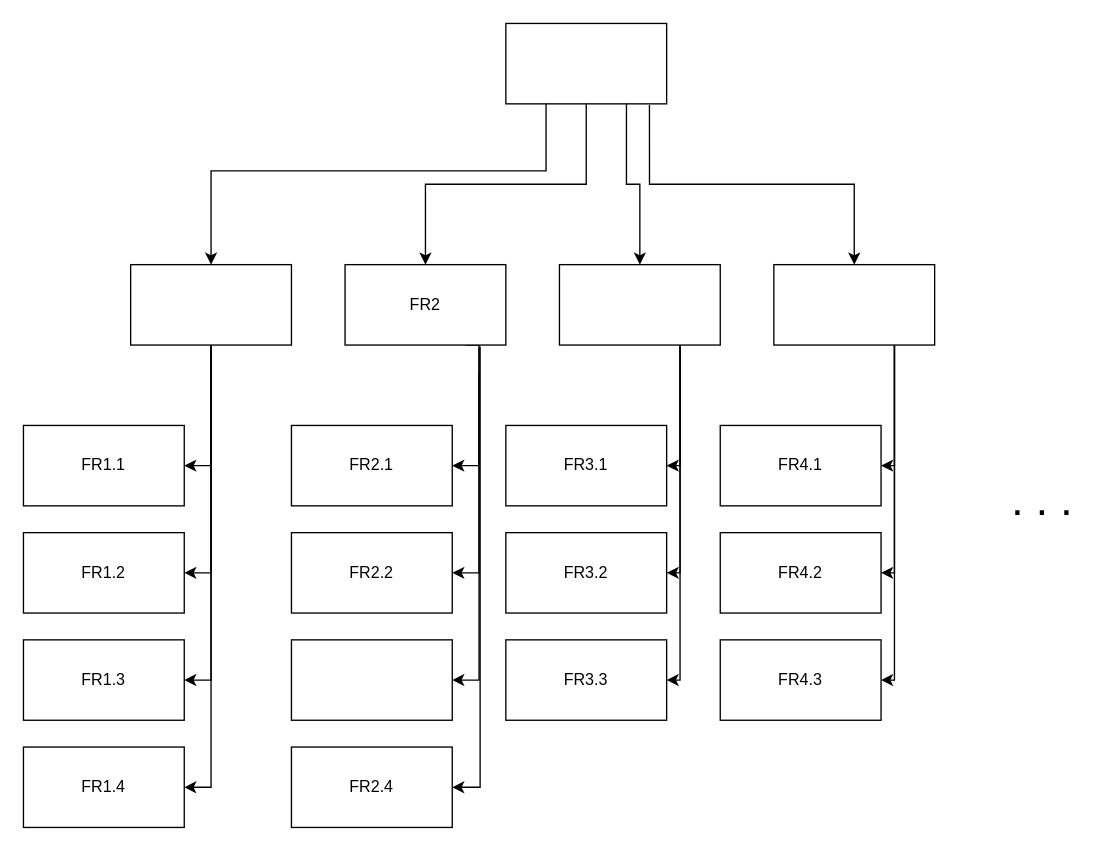
The diagram is 1106 pixels wide and 851 high, and some of its shapes have lost their labels. Each missing label, with the centre of its shape:
"FR1" belongs at point (210, 304).
"FR2.3" belongs at point (371, 679).
"FR3" belongs at point (639, 304).
"FR4" belongs at point (854, 304).
"ПП" belongs at point (586, 63).
